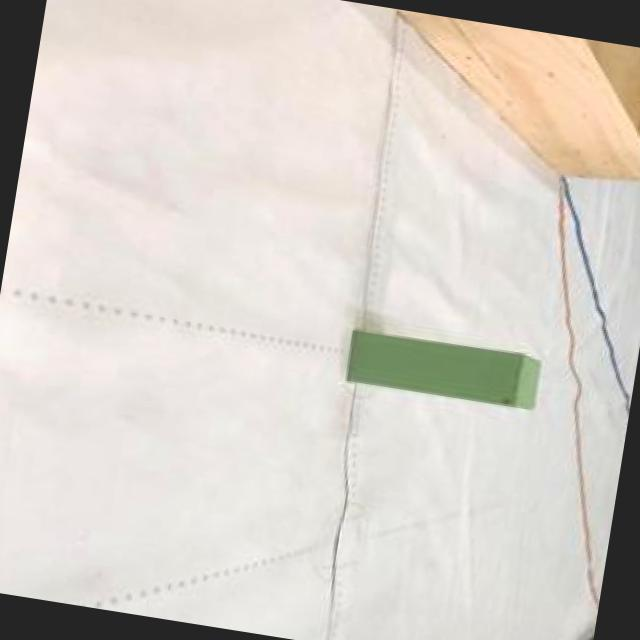greenbox: (342, 322, 548, 414)
